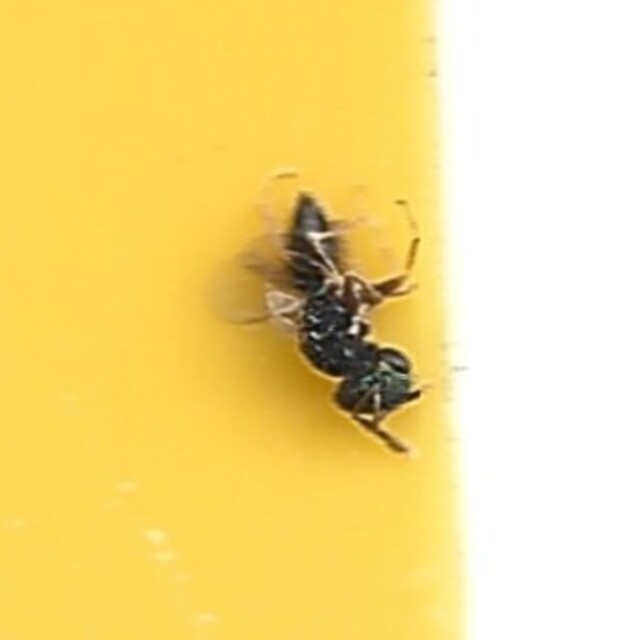Hymenoptera: (203, 175, 437, 465)
